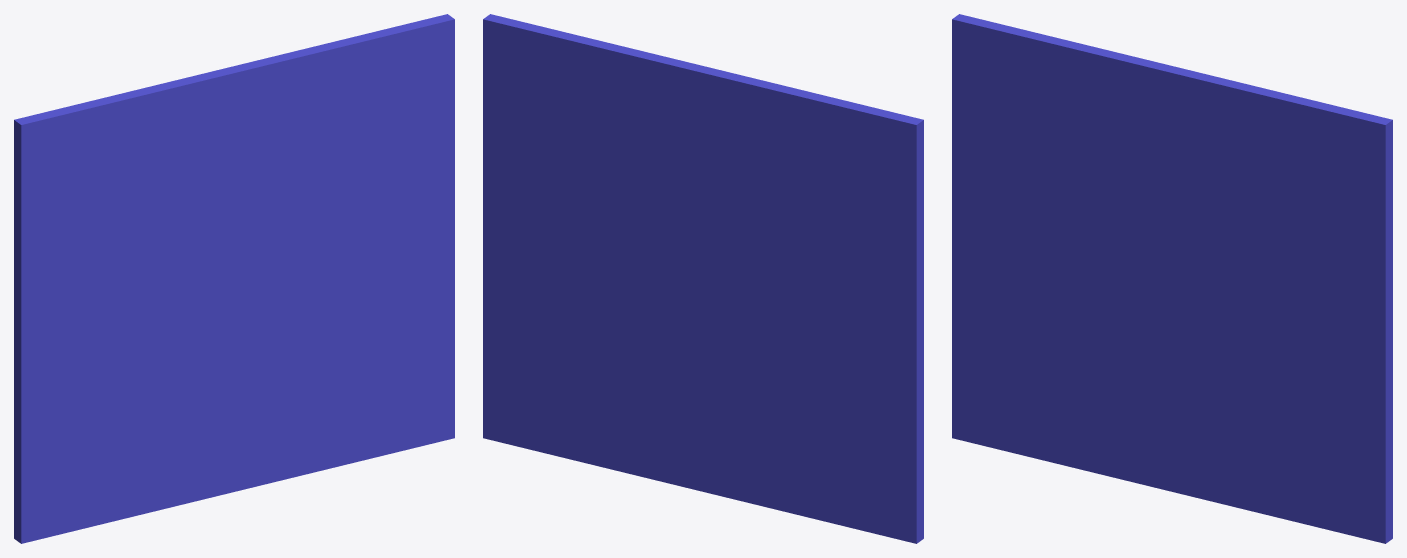
The model's file is SciFi_pipes_05.DAE.
3 views of the same model, side by side, from view 1: azimuth 30°, elevation 25°; view 2: azimuth 150°, elevation 25°; view 3: azimuth 330°, elevation 25° (orthographic).
Parts seen in each view (by area): view 1: bounds; view 2: bounds; view 3: bounds.
Boxes of the visible parts, x1,y1,x2,y2 form: bounds: (14, 14, 454, 543); bounds: (483, 14, 923, 543); bounds: (952, 14, 1392, 543).
Size of the model in its own units: 675 by 19.62 by 623.
